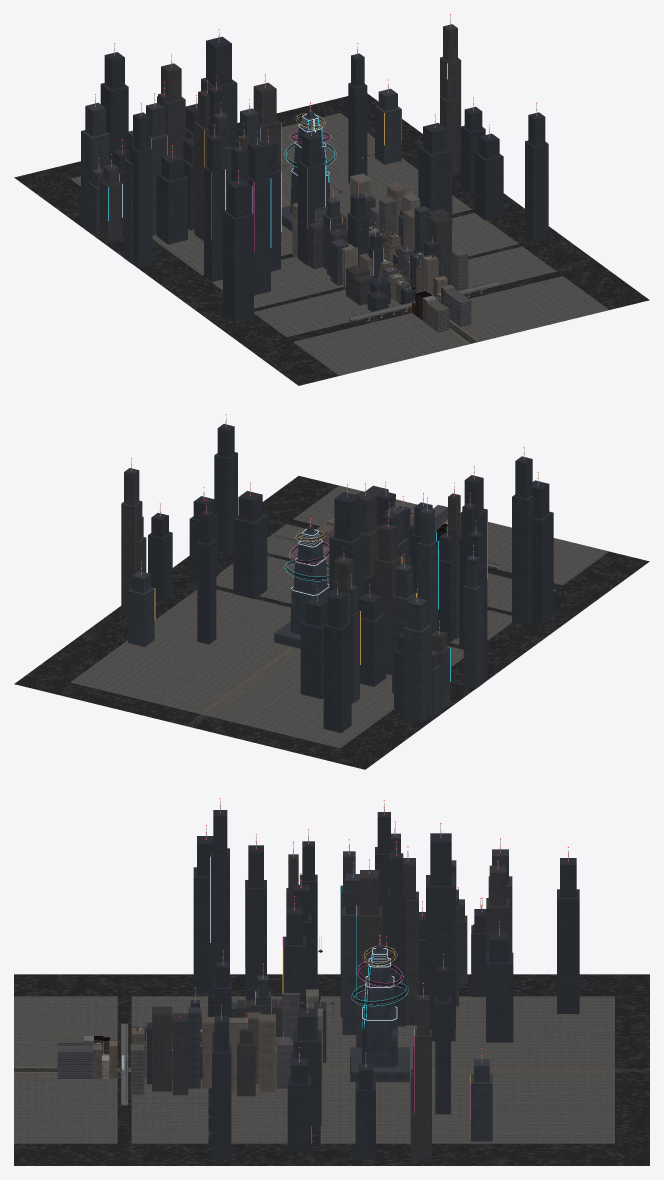
3 views of the same model, one above another, from view 1: azimuth 30°, elevation 25°; view 2: azimuth 150°, elevation 25°; view 3: azimuth 270°, elevation 25° (orthographic). The views are drawn at different scales.
Parts seen in each view (by area): view 1: s3_v2; view 2: s3_v2; view 3: s3_v2.
Part boxes in pixels (x1,y1,x2,y2): s3_v2: (14,14,649,385); s3_v2: (14,414,649,769); s3_v2: (14,798,649,1165).
Size of the model in its own units: 520 by 269 by 730.
191 materials, 9 textured.
